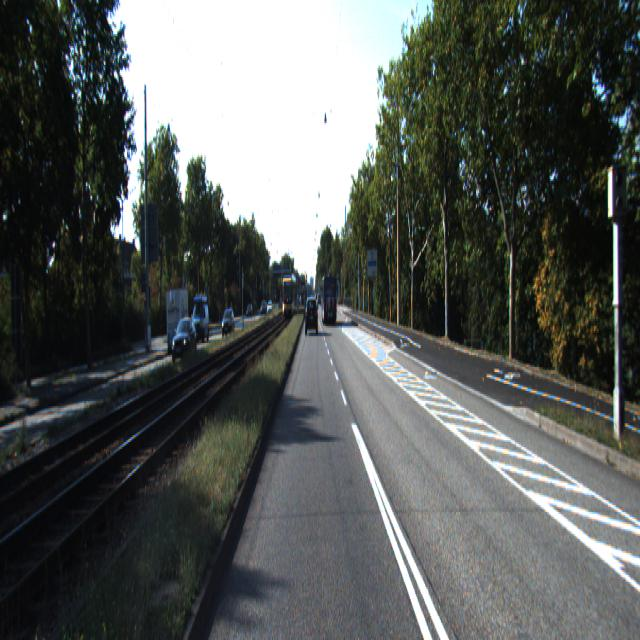Car: (166, 286, 189, 356), (170, 315, 198, 366), (190, 299, 210, 344), (322, 274, 338, 325), (305, 298, 317, 335)
